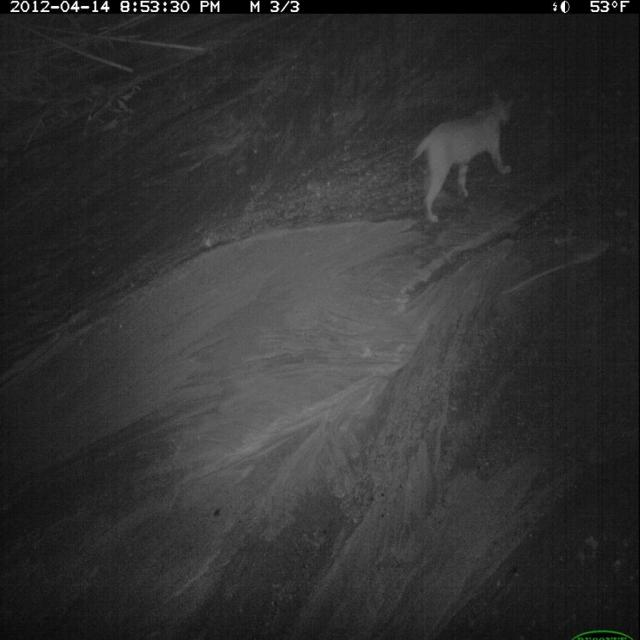bobcat: (405, 84, 520, 228)
